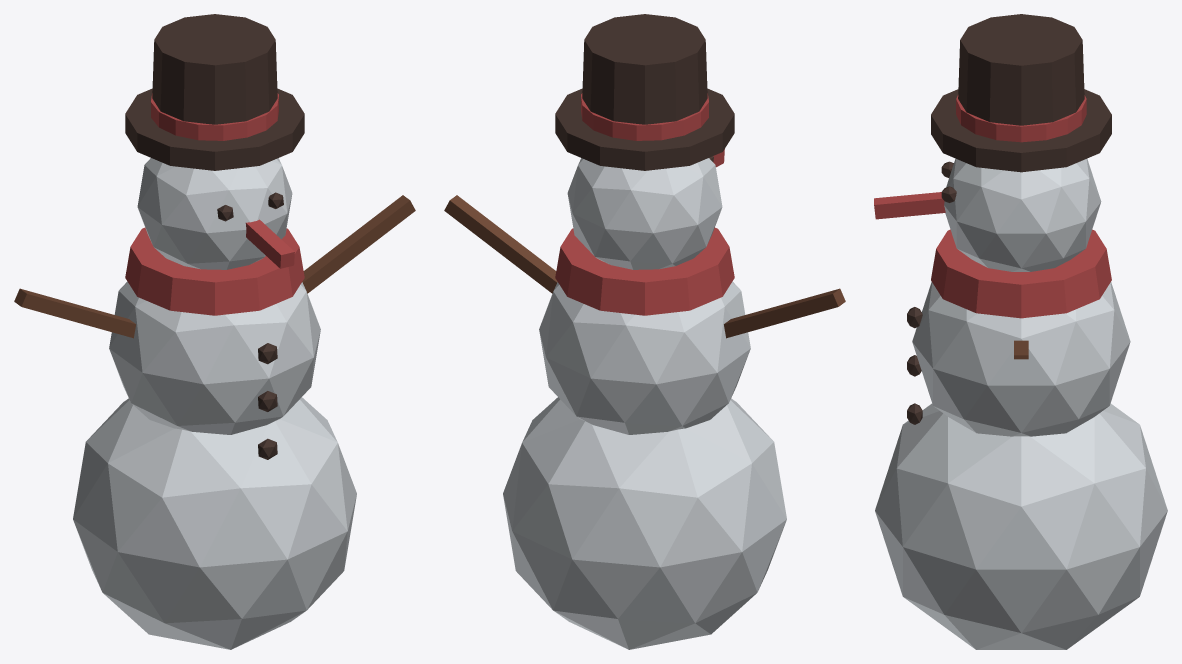
Rendered from Frosty_BigSnowman_Standard.glb.
3 renders of one model, left to right at view 1: azimuth 30°, elevation 25°; view 2: azimuth 150°, elevation 25°; view 3: azimuth 270°, elevation 25°, orthographic.
Parts seen in each view (by area): view 1: Frosty_BigSnowman_Standard; view 2: Frosty_BigSnowman_Standard; view 3: Frosty_BigSnowman_Standard.
Boxes of the visible parts, box(x1,y1,x2,y2) form: Frosty_BigSnowman_Standard: box(14, 14, 415, 649); Frosty_BigSnowman_Standard: box(444, 14, 845, 649); Frosty_BigSnowman_Standard: box(874, 14, 1167, 649).
Bounding box in the file's own units: 1.72 × 2.5 × 1.1.
